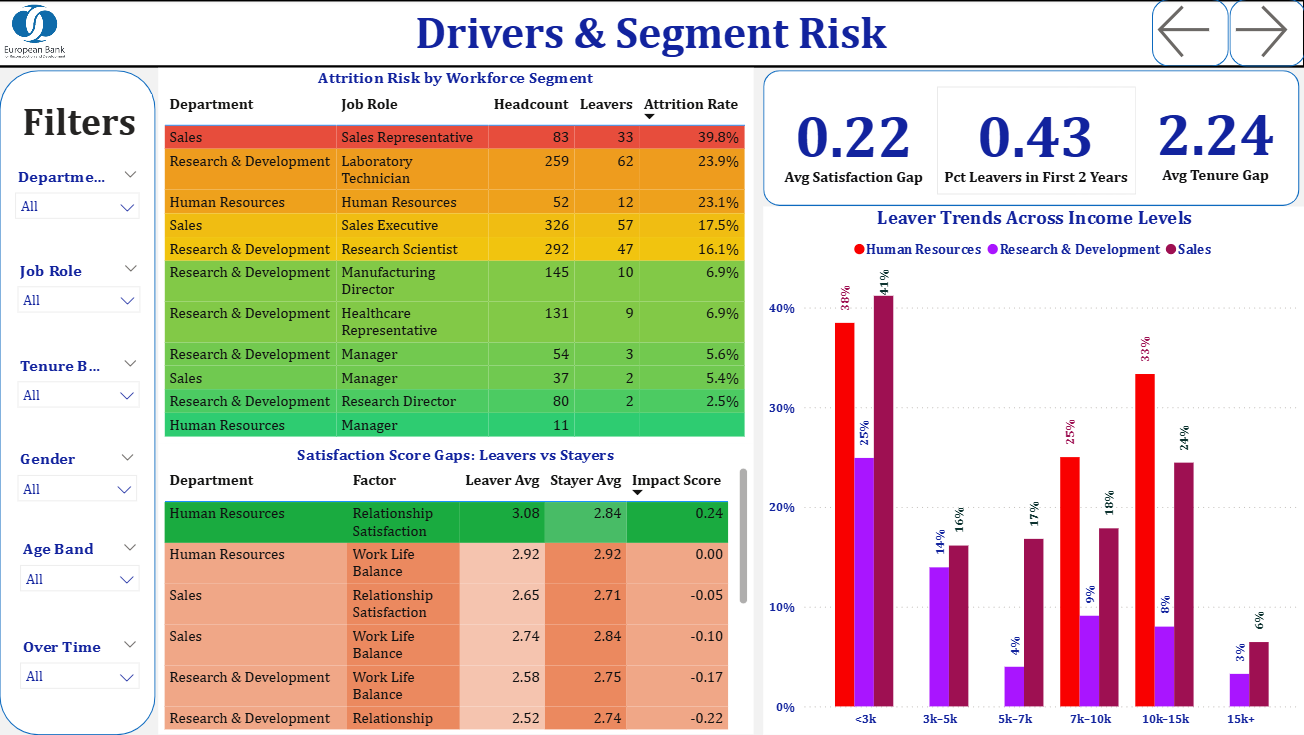

The page's visual inventory and layout, read from the dashboard file:
{"tool":"powerbi","page":{"name":"Drivers & Segment Risk","canvas":[1280,720],"ordinal":2},"visuals":[{"type":"shape","box":[749.8,70.1,524.5,132.7],"z":0},{"type":"shape","box":[2.6,69.8,152.6,650.5],"z":1000},{"type":"textbox","box":[10,92.6,141.4,56.3],"z":2000},{"type":"textbox","box":[0,0,1280.3,67.2],"z":3000},{"type":"slicer","fields":{"Values":["Attrition Data.Department"]},"box":[7.8,159.1,142.3,66],"z":4000},{"type":"slicer","fields":{"Values":["Attrition Data.Job Role"]},"box":[10,250.3,140.2,58.8],"z":5000},{"type":"slicer","fields":{"Values":["Attrition Data.Age Band"]},"box":[11.6,523.7,137.1,64.7],"z":6000},{"type":"slicer","fields":{"Values":["Attrition Data.Tenure Band"]},"box":[10.3,344,139.7,62.1],"z":7000},{"type":"slicer","fields":{"Values":["Attrition Data.Gender"]},"box":[10.3,435.8,137.1,59.5],"z":8000},{"type":"slicer","fields":{"Values":["Attrition Data.Over Time"]},"box":[11.6,618.1,137.1,58.2],"z":9000},{"type":"actionButton","box":[1130.3,0,77.6,63.4],"z":10000},{"type":"actionButton","box":[1204,0,76.3,63.4],"z":11000},{"type":"shape","box":[1130.3,0,75,66],"z":12000},{"type":"shape","box":[1205.7,0,74.6,66],"z":13000},{"type":"tableEx","title":"Attrition Risk by Workforce Segment","fields":{"Values":["Attrition Data.Department","Attrition Data.Job Role","KPI Measures.Headcount","KPI Measures.Leavers","KPI Measures.Attrition Rate"]},"box":[157.7,67.6,582,368],"z":14000},{"type":"clusteredColumnChart","title":"Leaver Trends Across Income Levels","fields":{"Category":["Attrition Data.Income Band"],"Y":["KPI Measures.Attrition Rate"],"Series":["Attrition Data.Department"]},"box":[749.3,203,530.7,517],"z":15000},{"type":"tableEx","title":"Satisfaction Score Gaps: Leavers vs Stayers","fields":{"Values":["Attrition Data.Department","Satisfaction Factors.Factor","Satisfaction Factors.Leaver Avg","Satisfaction Factors.Stayer Avg","Satisfaction Factors.(Leavers–Stayers)"]},"box":[157.7,435.6,582,284.1],"z":16000},{"type":"card","fields":{"Values":["KPI Measures.Avg Satisfaction Gap"]},"box":[753.5,82.6,170.2,110.2],"z":17000},{"type":"card","fields":{"Values":["KPI Measures.Pct Leavers in First 2 Years"]},"box":[920,85.1,194,105.1],"z":18000},{"type":"card","fields":{"Values":["Attrition Data.Avg Tenure Gap"]},"box":[1114,82.6,156.5,106.4],"z":19000},{"type":"image","box":[2.4,0,70.9,63.6],"z":20000}]}

Visuals, with their boxes in screenshot pixels (x1, y1, x2, y2), scaled from the page's 1280x720 canvas onto the 1304x735 screenshot:
shape: (764, 72, 1298, 207)
shape: (3, 71, 158, 734)
textbox: (10, 95, 154, 152)
textbox: (0, 0, 1303, 69)
slicer - Attrition Data.Department: (8, 162, 153, 230)
slicer - Attrition Data.Job Role: (10, 256, 153, 316)
slicer - Attrition Data.Age Band: (12, 535, 151, 601)
slicer - Attrition Data.Tenure Band: (10, 351, 153, 415)
slicer - Attrition Data.Gender: (10, 445, 150, 506)
slicer - Attrition Data.Over Time: (12, 631, 151, 690)
actionButton: (1151, 0, 1231, 65)
actionButton: (1227, 0, 1303, 65)
shape: (1151, 0, 1228, 67)
shape: (1228, 0, 1303, 67)
"Attrition Risk by Workforce Segment" tableEx: (161, 69, 754, 445)
"Leaver Trends Across Income Levels" clusteredColumnChart: (763, 207, 1303, 734)
"Satisfaction Score Gaps: Leavers vs Stayers" tableEx: (161, 445, 754, 734)
card - KPI Measures.Avg Satisfaction Gap: (768, 84, 941, 197)
card - KPI Measures.Pct Leavers in First 2 Years: (937, 87, 1135, 194)
card - Attrition Data.Avg Tenure Gap: (1135, 84, 1294, 193)
image: (2, 0, 75, 65)
